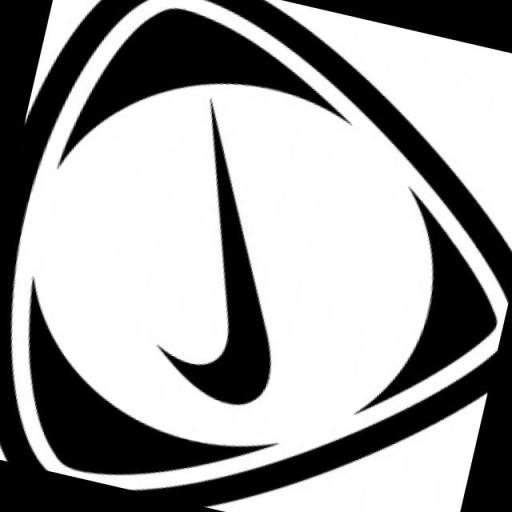Nike: (142, 96, 332, 422)
